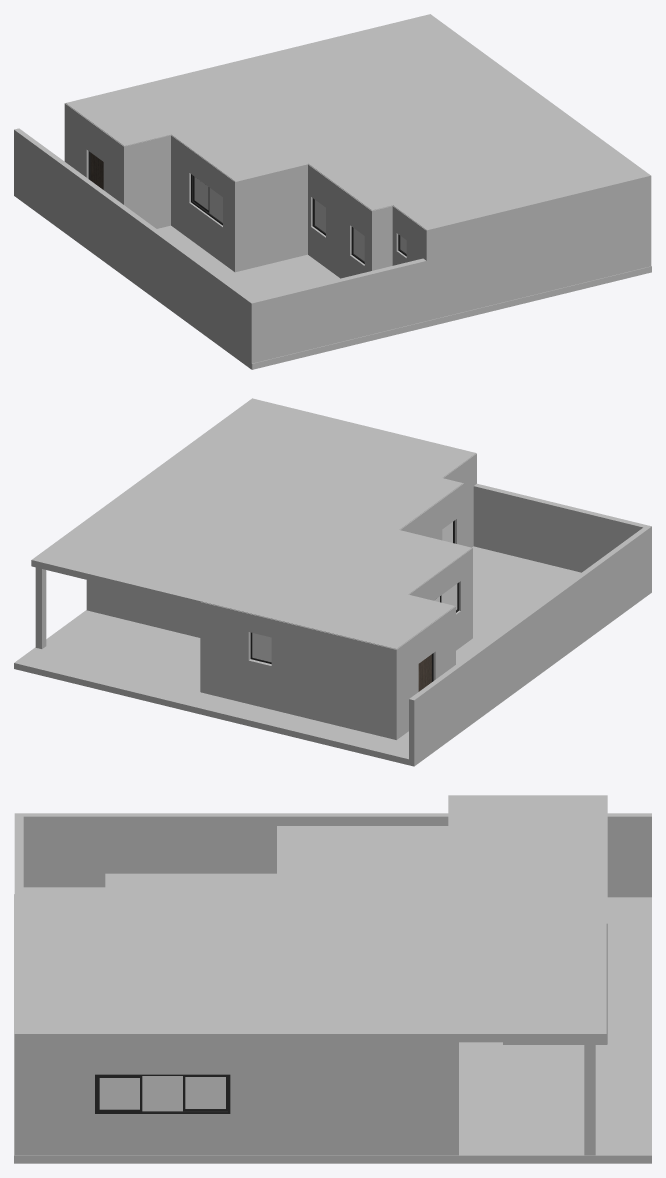
The model's file is separaciones_todojunto.fbx.
3 renders of one model, top to bottom at view 1: azimuth 30°, elevation 25°; view 2: azimuth 150°, elevation 25°; view 3: azimuth 270°, elevation 25°, orthographic. The views are drawn at different scales.
Visible parts, largest first — view 1: Cube.045; view 2: Cube.045; view 3: Cube.045.
Part boxes in pixels (bbox=[...]): Cube.045: bbox=[14, 14, 651, 369]; Cube.045: bbox=[14, 398, 651, 766]; Cube.045: bbox=[14, 795, 651, 1163].
Size of the model in its own units: 1535 by 354 by 1582.
